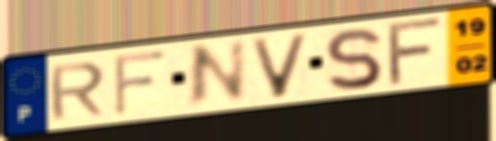F: (385, 14, 447, 89), (111, 47, 169, 119)
N: (184, 36, 249, 112)
R: (47, 60, 108, 123)
S: (322, 26, 385, 94)
V: (246, 31, 314, 101)
